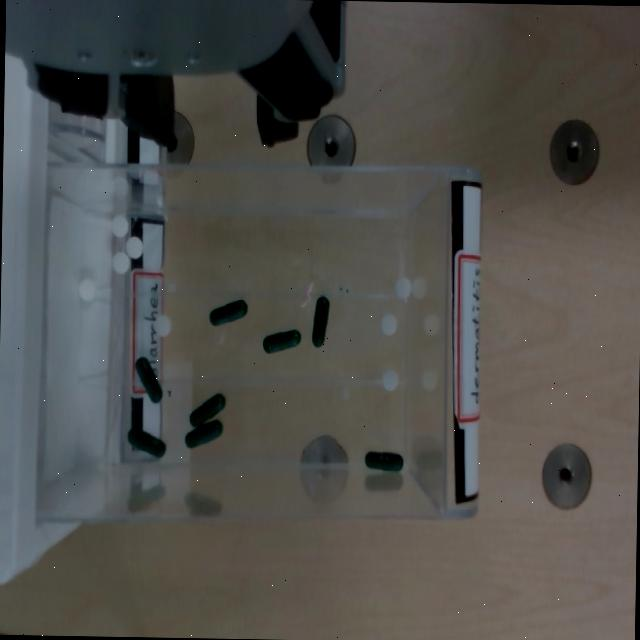ganakan_tab: (77, 275, 96, 301), (380, 368, 399, 392), (380, 314, 398, 337), (125, 236, 143, 259), (110, 214, 128, 237), (112, 215, 130, 238), (154, 314, 171, 338), (111, 252, 129, 274), (395, 277, 412, 300), (126, 237, 143, 259), (113, 251, 130, 273), (80, 278, 96, 301), (396, 277, 411, 301), (154, 315, 171, 336), (382, 370, 398, 392), (382, 314, 397, 336)
monodoxy_cap: (133, 355, 163, 403), (188, 393, 226, 429), (126, 426, 166, 459), (184, 420, 223, 451), (208, 299, 248, 329), (136, 358, 162, 403), (190, 394, 225, 426), (128, 428, 165, 458), (262, 328, 301, 355), (186, 420, 223, 448), (311, 296, 330, 349), (210, 300, 247, 325), (364, 450, 404, 473), (312, 297, 329, 347), (264, 330, 300, 353), (365, 452, 403, 472)
